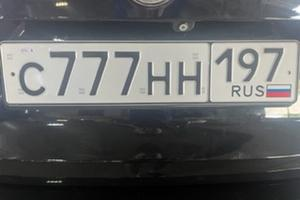license-plateSW: (0, 38, 299, 107)
